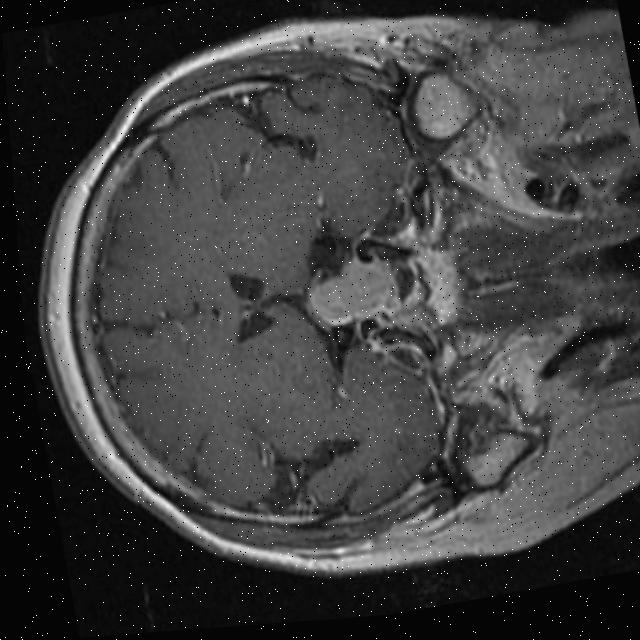Pituitary: (302, 249, 405, 332)
